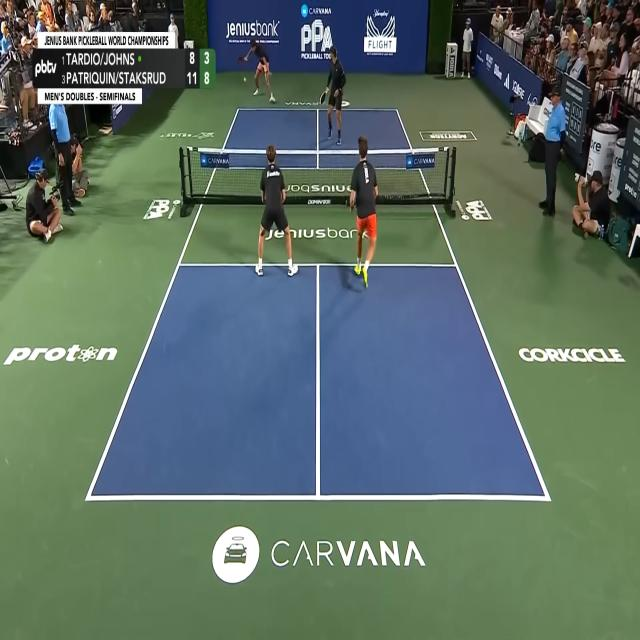ball: (244, 76, 246, 82)
